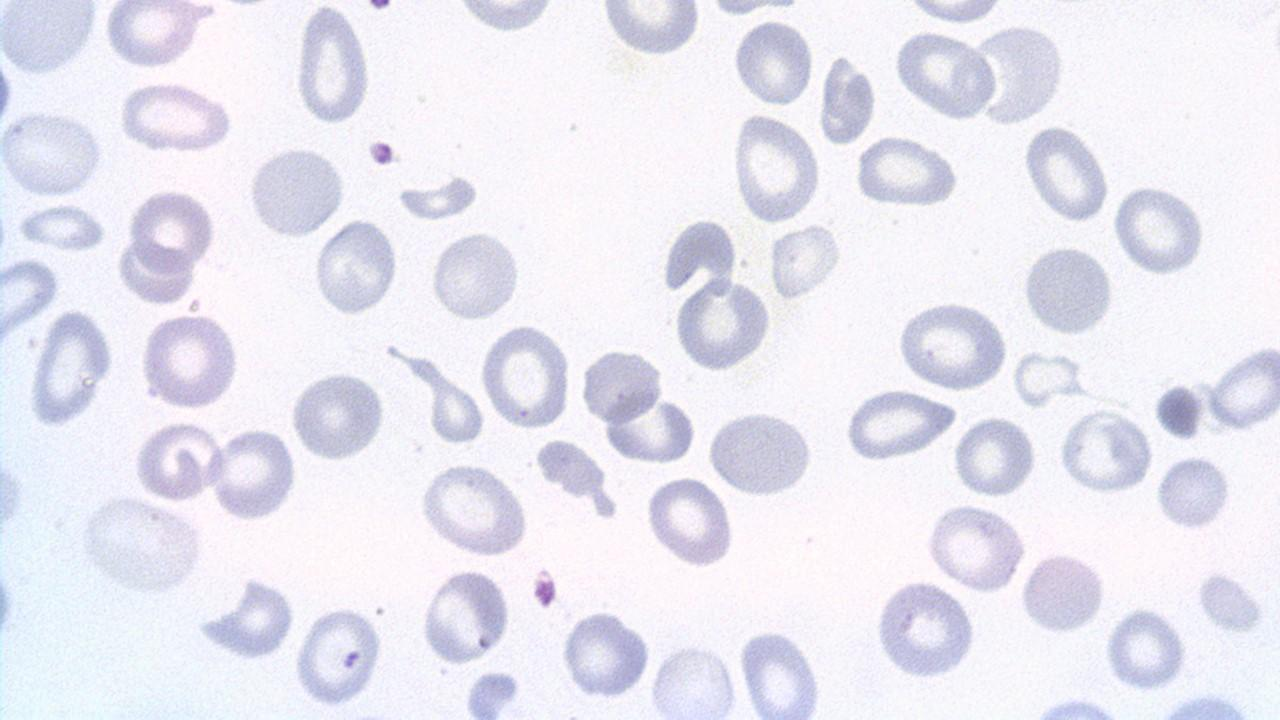Platelets: (191, 578, 300, 665), (1103, 606, 1193, 694), (817, 53, 879, 145), (1193, 568, 1271, 634), (395, 172, 481, 222), (1150, 380, 1206, 440), (464, 666, 522, 718), (0, 450, 29, 547), (0, 562, 19, 643), (0, 50, 17, 132), (530, 568, 561, 612), (365, 136, 399, 170), (360, 0, 396, 11)
RBC: (78, 493, 208, 595), (415, 460, 532, 558), (894, 296, 1012, 393), (965, 21, 1070, 128), (728, 110, 824, 224), (26, 306, 115, 428), (139, 310, 243, 412), (290, 604, 388, 710), (672, 271, 772, 374), (246, 141, 349, 240), (292, 3, 374, 127), (1109, 179, 1211, 277), (479, 322, 572, 429), (924, 499, 1028, 594), (287, 366, 387, 464), (891, 29, 997, 121), (0, 108, 107, 199), (1021, 122, 1113, 225), (418, 566, 512, 666), (841, 388, 961, 464), (207, 424, 298, 524), (117, 80, 236, 156), (734, 623, 830, 717), (1056, 404, 1154, 496), (311, 217, 401, 316), (559, 607, 653, 701), (430, 227, 521, 324), (644, 475, 736, 570), (852, 134, 962, 212), (131, 418, 227, 504), (127, 186, 220, 273), (1103, 601, 1189, 695), (0, 0, 101, 79), (1018, 548, 1108, 636), (732, 15, 815, 108), (950, 414, 1038, 500), (1205, 338, 1279, 436), (648, 641, 740, 718), (102, 0, 202, 70), (1151, 452, 1235, 532), (577, 345, 664, 422), (600, 396, 697, 464), (597, 1, 703, 60), (767, 220, 843, 302), (817, 52, 879, 145), (1, 254, 61, 346), (114, 237, 198, 302), (16, 200, 108, 254), (427, 374, 488, 448), (900, 0, 1010, 26)
WBC: (714, 14, 1280, 720), (0, 8, 436, 720), (494, 0, 1016, 512), (25, 296, 123, 441), (474, 318, 586, 437), (894, 294, 1015, 397), (964, 20, 1074, 130), (871, 576, 983, 682), (672, 270, 778, 372), (290, 604, 389, 710), (704, 406, 818, 498), (292, 1, 374, 128), (288, 364, 391, 464), (243, 141, 346, 240), (1018, 239, 1116, 337), (736, 622, 832, 718), (558, 607, 654, 700), (0, 1, 104, 78), (578, 344, 664, 426), (600, 396, 698, 466), (817, 51, 879, 147), (440, 0, 571, 34), (1, 452, 26, 554)
